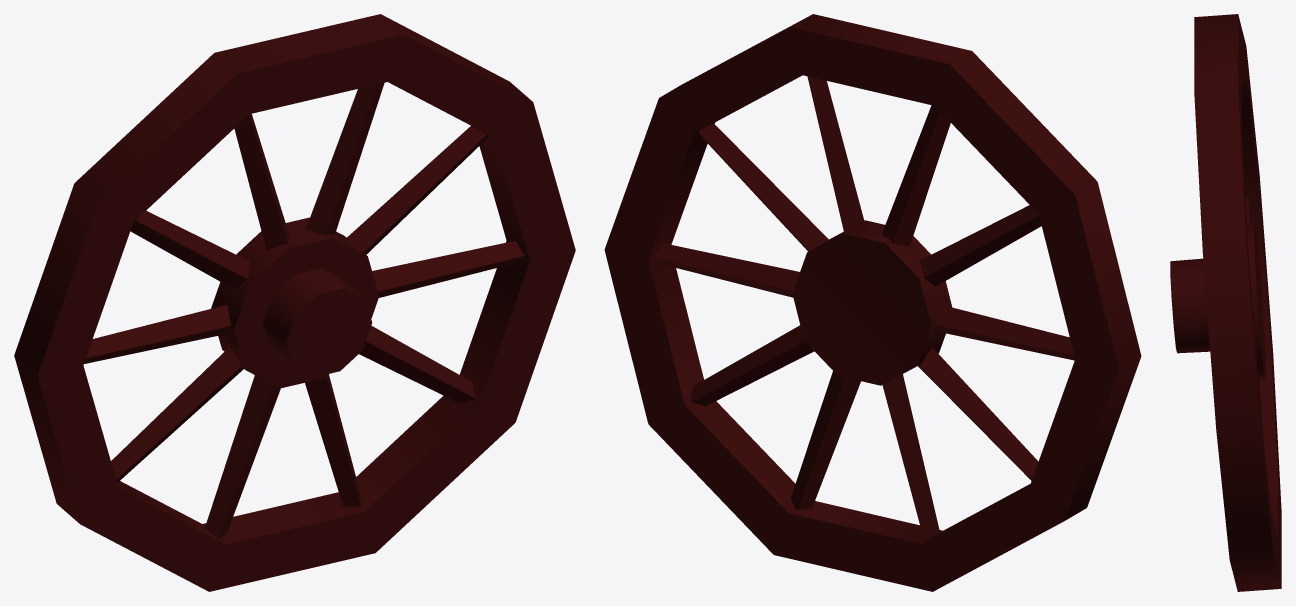
Rendered from wheel.fbx.
The picture shows the model from 3 angles, left to right: view 1: azimuth 30°, elevation 25°; view 2: azimuth 150°, elevation 25°; view 3: azimuth 270°, elevation 25°; orthographic projection. The views are drawn at different scales.
Visible parts, largest first — view 1: wheel; view 2: wheel; view 3: wheel.
Boxes of the visible parts, <box> form: wheel: <box>14,14,575,591</box>; wheel: <box>604,14,1141,591</box>; wheel: <box>1170,14,1281,591</box>.
Bounding box in the file's own units: 4.2 × 4.02 × 0.8052.
